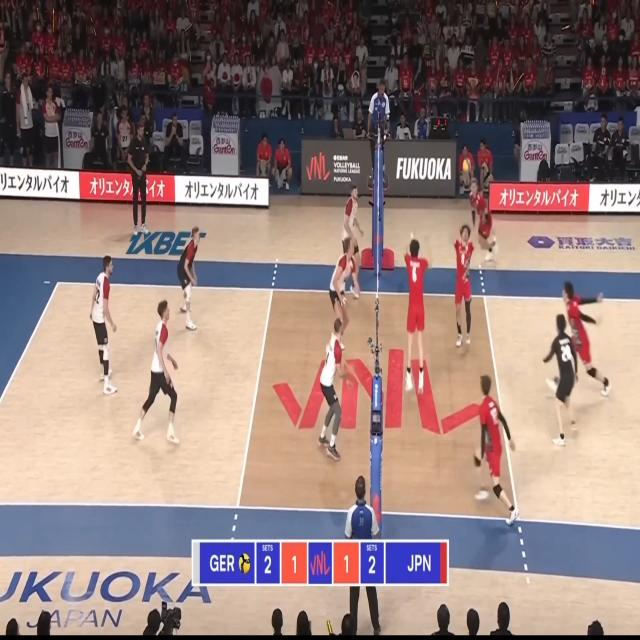ball: (463, 158, 471, 172)
